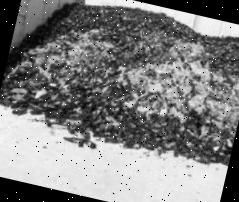glass: (61, 136, 84, 148)
